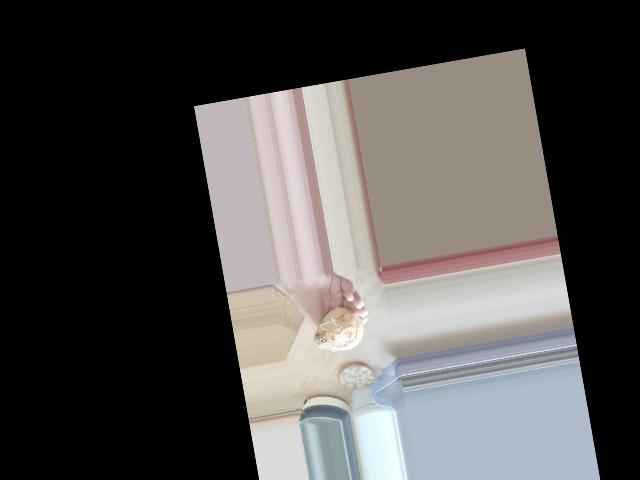onion: (312, 303, 368, 359)
